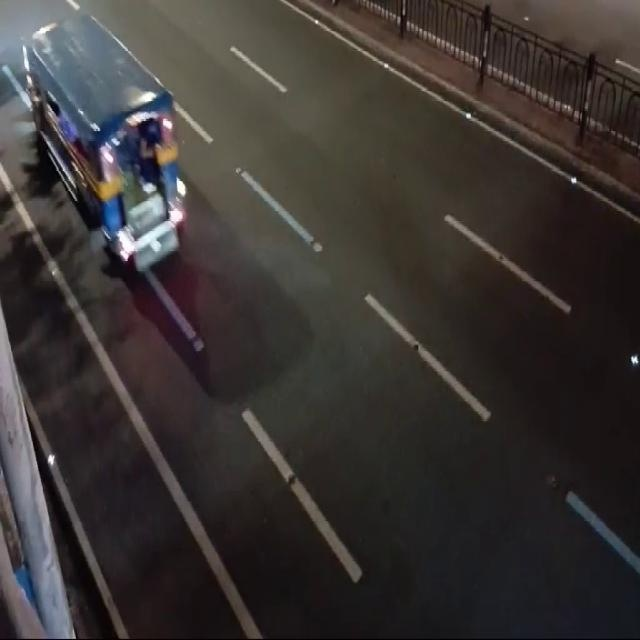jeepney: (15, 11, 201, 269)
